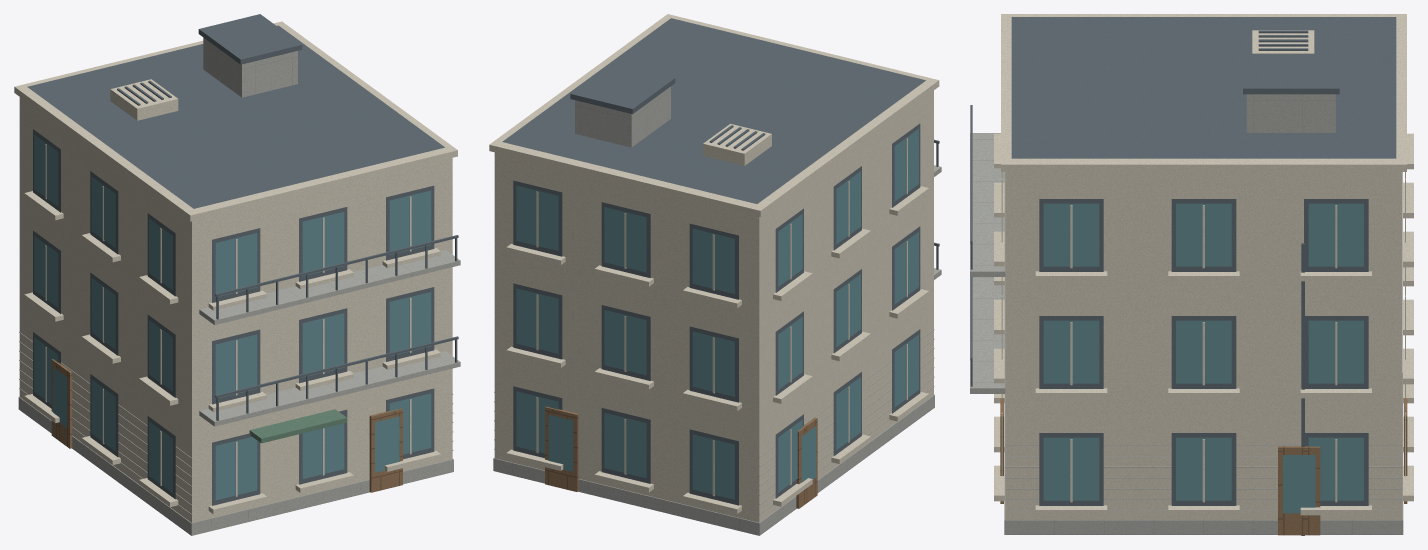
File: q03-home-1.glb
The picture shows the model from 3 angles, left to right: view 1: azimuth 30°, elevation 25°; view 2: azimuth 150°, elevation 25°; view 3: azimuth 270°, elevation 25°; orthographic projection. The views are drawn at different scales.
Size of the model in its own units: 7.46 by 9.31 by 8.94.
6 materials, 5 textured.
